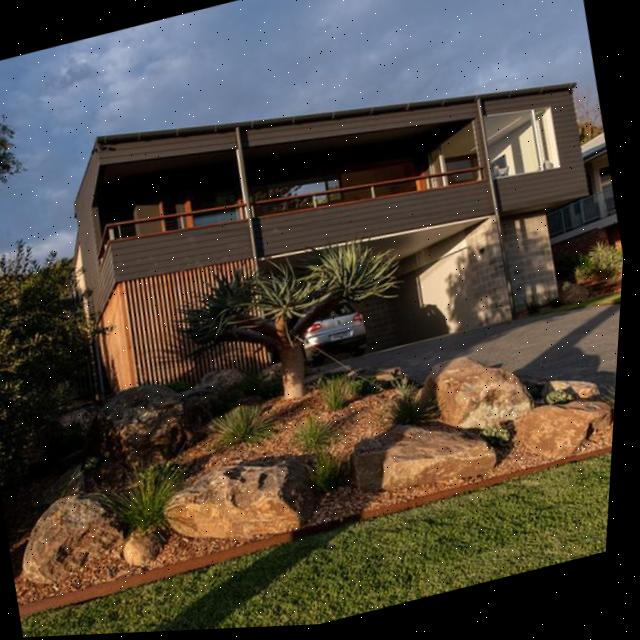building: (35, 11, 623, 429)
